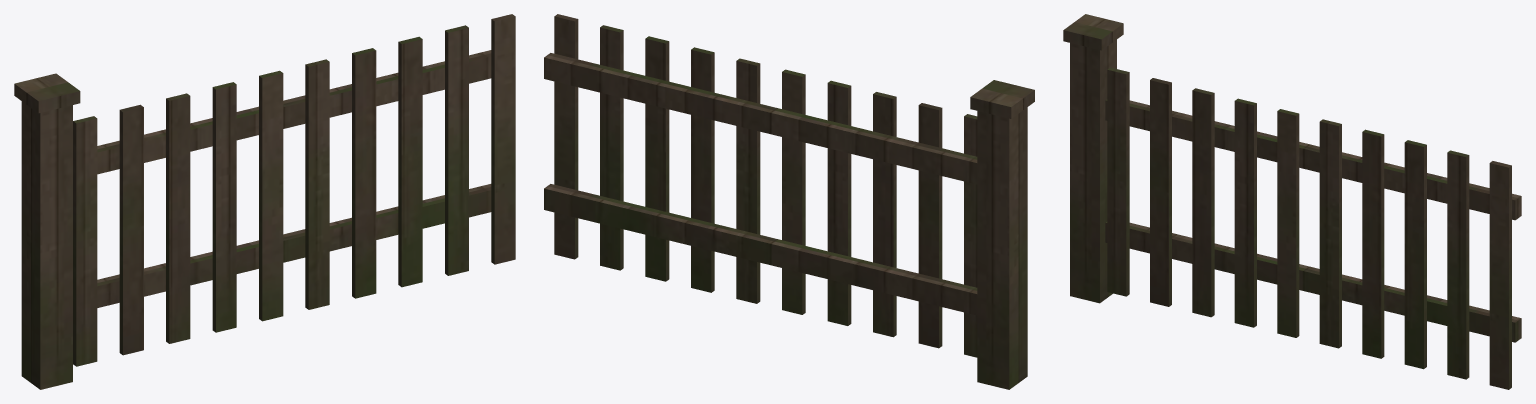
File: prp_fence_module_a_LOD1.glb
The picture shows the model from 3 angles, left to right: view 1: azimuth 30°, elevation 25°; view 2: azimuth 150°, elevation 25°; view 3: azimuth 330°, elevation 25°; orthographic projection. The views are drawn at different scales.
Parts seen in each view (by area): view 1: prp_fence_module_a_wood; view 2: prp_fence_module_a_wood; view 3: prp_fence_module_a_wood.
Boxes of the visible parts, <box> form: prp_fence_module_a_wood: <box>14,14,515,389</box>; prp_fence_module_a_wood: <box>544,14,1034,389</box>; prp_fence_module_a_wood: <box>1063,14,1521,389</box>.
Bounding box in the file's own units: 2.09 × 1.2 × 0.18.
1 material, 1 textured.
